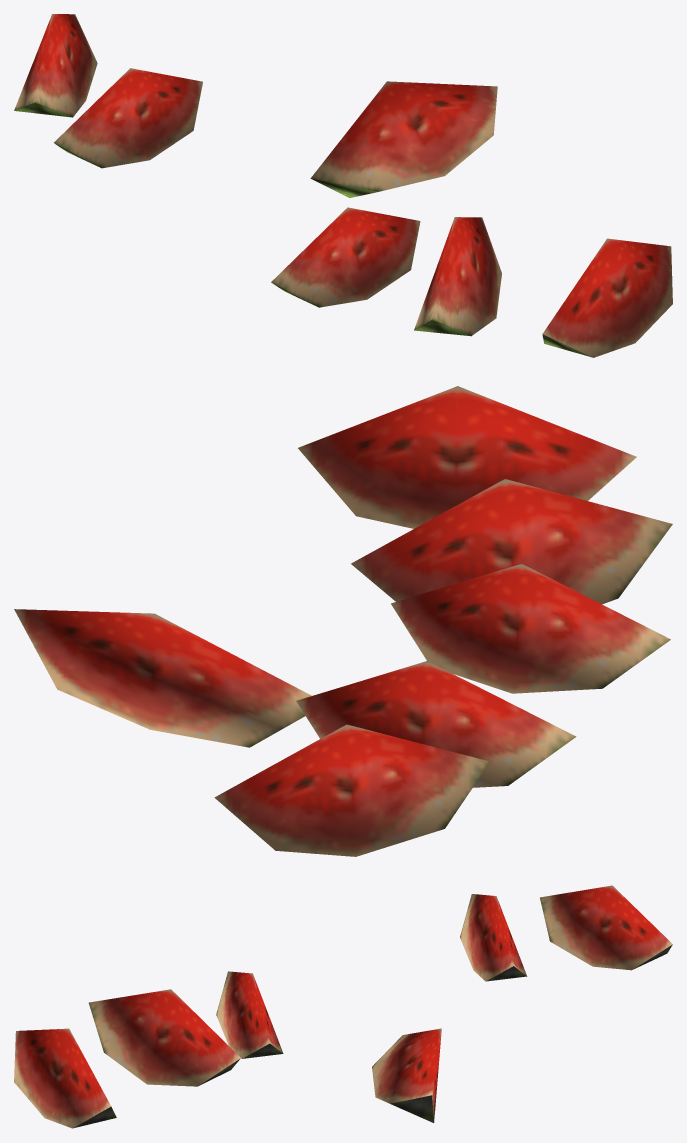
The model's file is xsz_xiguapian_1.FBX.
3 renders of one model, top to bottom at view 1: azimuth 30°, elevation 25°; view 2: azimuth 150°, elevation 25°; view 3: azimuth 270°, elevation 25°, orthographic. The views are drawn at different scales.
Parts seen in each view (by area): view 1: xsz_xiguapian_1; view 2: xsz_xiguapian_1; view 3: xsz_xiguapian_1.
Part boxes in pixels (x1,y1,x2,y2): xsz_xiguapian_1: [14, 14, 672, 357]; xsz_xiguapian_1: [14, 386, 672, 856]; xsz_xiguapian_1: [14, 885, 672, 1128].
Bounding box in the file's own units: 2.04 × 0.6872 × 3.23.
